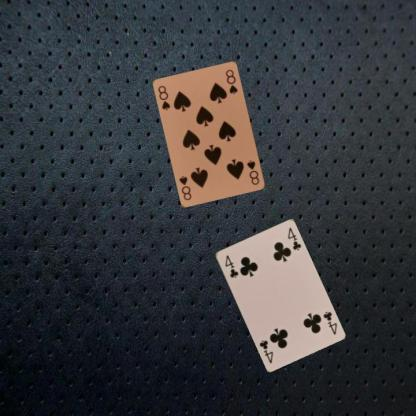4c: (320, 308, 338, 336), (223, 252, 240, 280)
8s: (156, 83, 172, 112), (244, 158, 260, 186)
